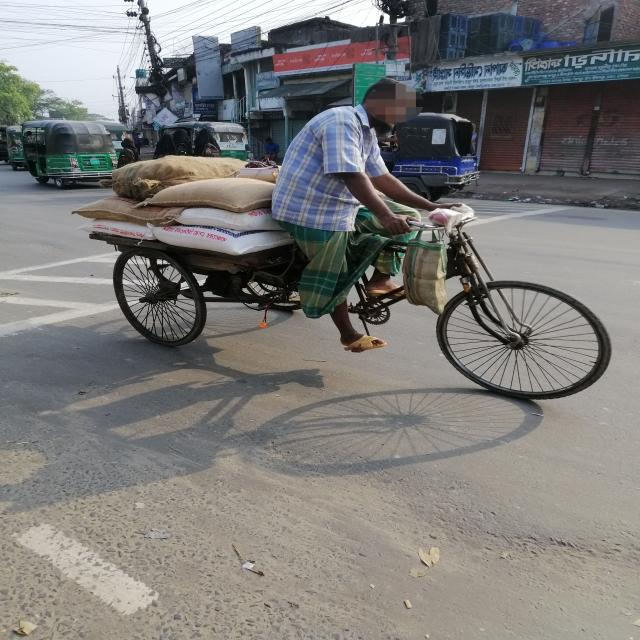CNG: (134, 114, 269, 193), (16, 118, 132, 195)
Easybike: (293, 95, 506, 201)
Van: (53, 163, 635, 408)
